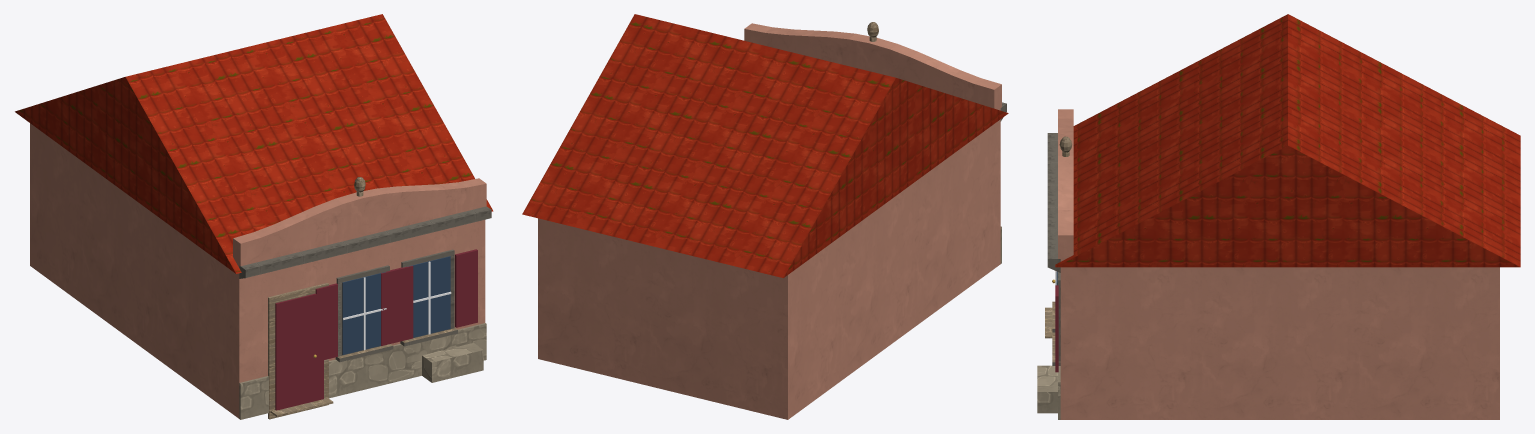
File: terrea_w6_1.gltf
3 renders of one model, left to right at view 1: azimuth 30°, elevation 25°; view 2: azimuth 150°, elevation 25°; view 3: azimuth 270°, elevation 25°, orthographic. The views are drawn at different scales.
Visible parts, largest first — view 1: terrea_w6_1; view 2: terrea_w6_1; view 3: terrea_w6_1.
Part boxes in pixels (x1,y1,x2,y2): terrea_w6_1: (15,14,493,419); terrea_w6_1: (522,14,1008,419); terrea_w6_1: (1037,14,1520,419).
Size of what is drawn, in the model's own units: 5.96 by 5.99 by 9.25.
7 materials, 4 textured.
